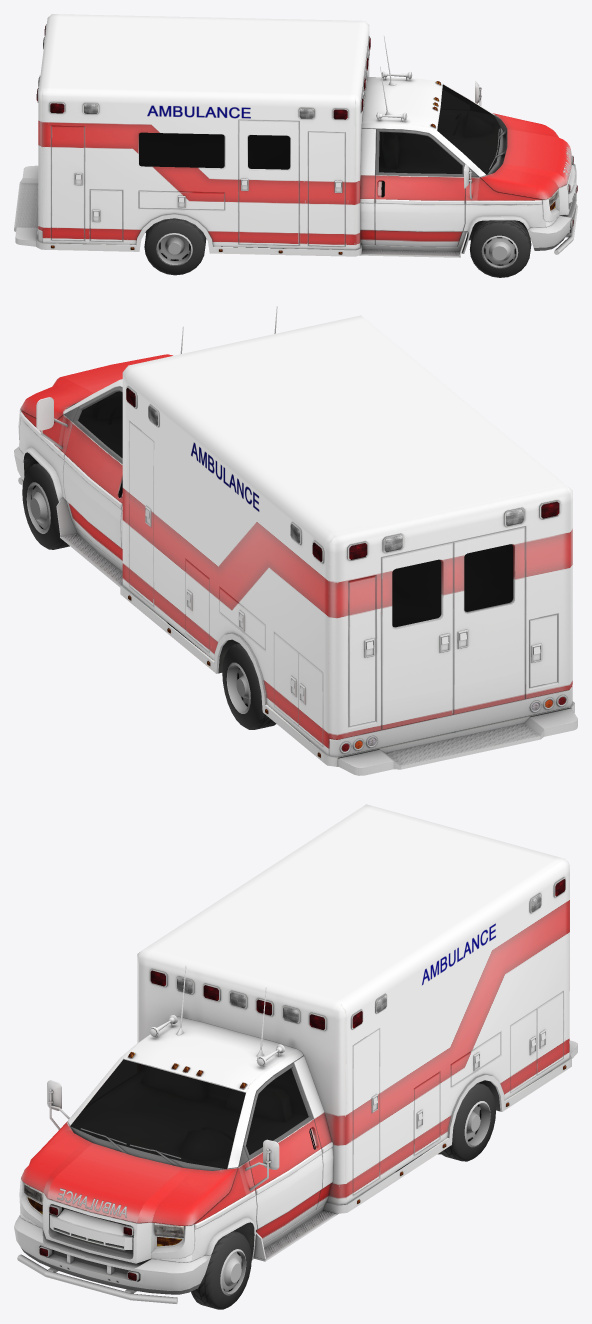
File: jxsMsavVkDbgtk3GjB8yhbx7Ni3G7EUV3NCuTEpu-1.glb
3 renders of one model, top to bottom at view 1: azimuth 30°, elevation 25°; view 2: azimuth 150°, elevation 25°; view 3: azimuth 270°, elevation 25°, orthographic. The views are drawn at different scales.
Parts seen in each view (by area): view 1: ambulance_ambulance_0, ambulance_glass_tex_0, ambulance_ambulance_0.001, ambulance_optics_tex_0, ambulance_decals_tex_0; view 2: ambulance_ambulance_0, ambulance_glass_tex_0, ambulance_ambulance_0.001, ambulance_optics_tex_0, ambulance_decals_tex_0; view 3: ambulance_ambulance_0, ambulance_glass_tex_0, ambulance_ambulance_0.001, ambulance_optics_tex_0, ambulance_decals_tex_0.
Part boxes in pixels (<box>): ambulance_ambulance_0: <box>14,14,577,257</box>; ambulance_glass_tex_0: <box>139,84,500,174</box>; ambulance_ambulance_0.001: <box>144,218,531,277</box>; ambulance_optics_tex_0: <box>36,25,577,254</box>; ambulance_decals_tex_0: <box>147,105,571,178</box>; ambulance_ambulance_0: <box>14,306,577,775</box>; ambulance_glass_tex_0: <box>78,391,513,627</box>; ambulance_ambulance_0.001: <box>22,463,276,729</box>; ambulance_optics_tex_0: <box>126,388,565,757</box>; ambulance_decals_tex_0: <box>191,442,259,511</box>; ambulance_ambulance_0: <box>14,804,577,1303</box>; ambulance_glass_tex_0: <box>70,1059,308,1169</box>; ambulance_ambulance_0.001: <box>191,1083,495,1309</box>; ambulance_optics_tex_0: <box>24,879,566,1280</box>; ambulance_decals_tex_0: <box>57,923,496,1217</box>.
Bounding box in the file's own units: 6.66 × 2.57 × 5.28.
Materials: 5 (5 with a texture image).
